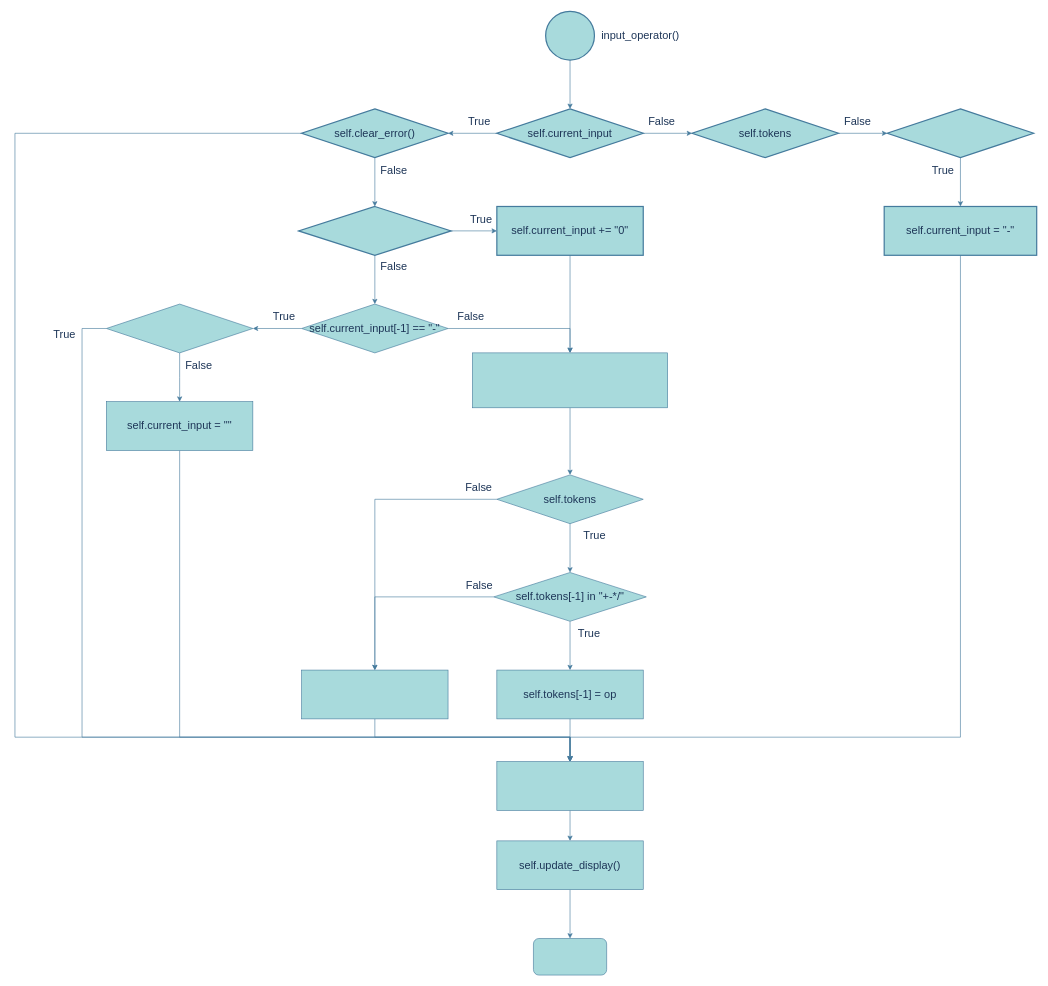
This 1048x986 diagram has some shape labels left out. Here are the shapes that lost their labels. From the top down, the centre of each, then its label:
the point at 960,133: op == "-"
the point at 374,231: self.current_input[-1] == "."
the point at 179,328: op in "-*/"
the point at 570,380: self.tokens.append(self.current_input) self.current_input = ""
the point at 374,694: self.tokens.append(op)
the point at 569,785: self.just_calculated = False
